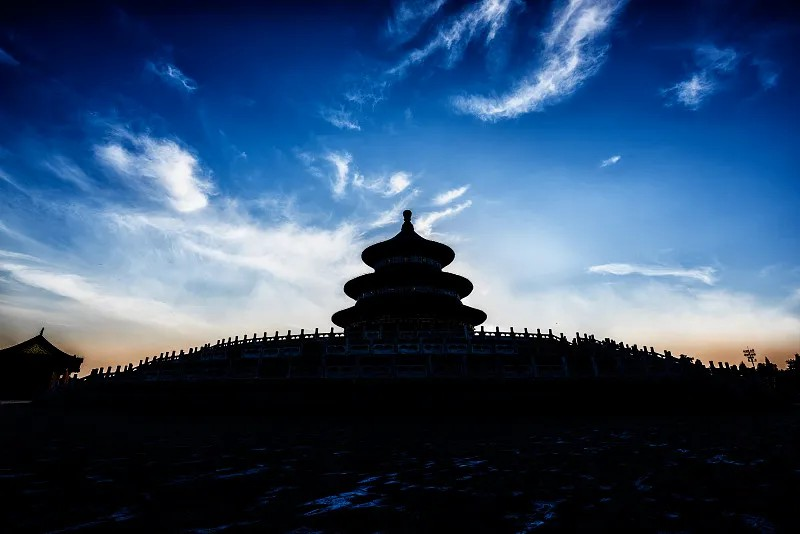Heaven: (330, 210, 487, 338)
